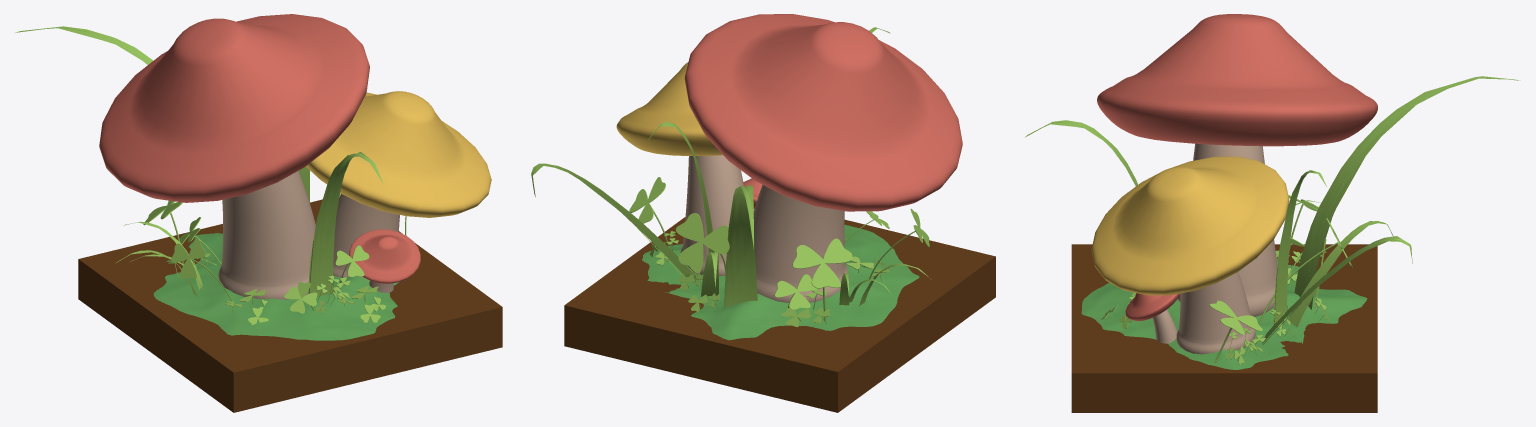
File: mushroom.fbx
3 renders of one model, left to right at view 1: azimuth 30°, elevation 25°; view 2: azimuth 150°, elevation 25°; view 3: azimuth 270°, elevation 25°, orthographic. The views are drawn at different scales.
Parts seen in each view (by area): view 1: mushroom; view 2: mushroom; view 3: mushroom.
Part boxes in pixels (x1,y1,x2,y2): mushroom: [15, 14, 502, 412]; mushroom: [531, 14, 995, 412]; mushroom: [1025, 14, 1520, 412].
Bounding box in the file's own units: 433 × 385 × 570.
